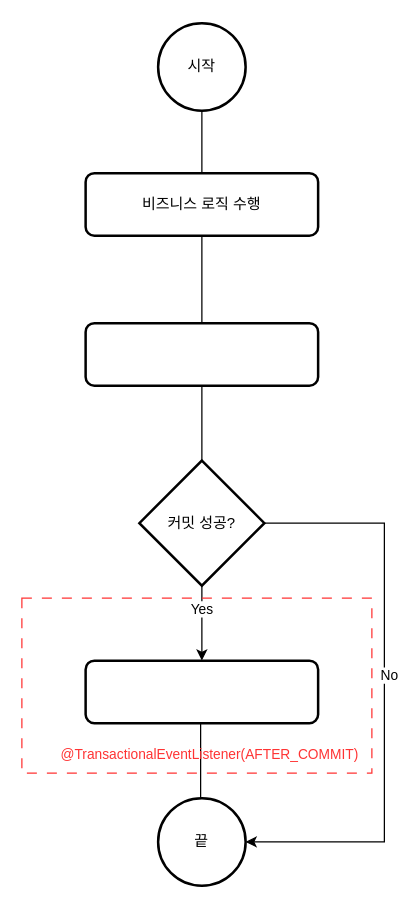
Image size: 419x908. Some labels were removed from this diagram. The centre of each missing label's shape, as x and y in pixels:
"다른 서비스 API 호출 --> 호출 받은 서비스에서 방금 커밋된 데이터를 SELECT 후 작업" goes at (201,691).
"엔티티 객체 생성 및 저장" goes at (201,353).
